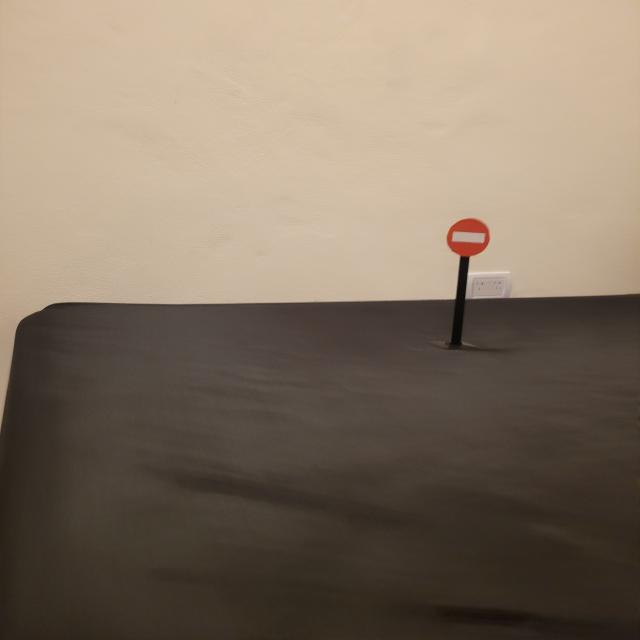no_entry: (446, 217, 492, 258)
